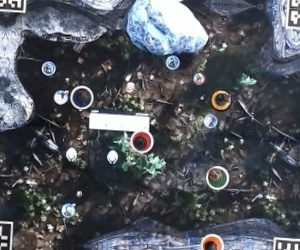blue: (68, 85, 93, 109)
orange: (204, 165, 228, 189), (198, 229, 225, 250)
red: (131, 129, 155, 153)
yellow_night_blue: (209, 88, 234, 112)
